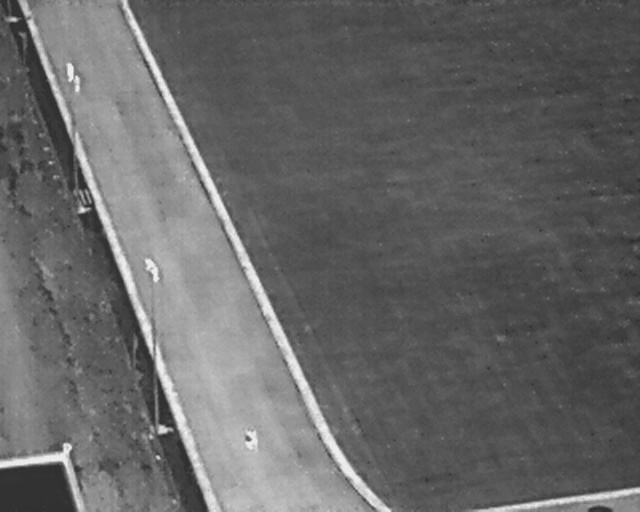Person: (138, 252, 165, 288), (243, 426, 260, 454), (65, 59, 76, 83), (73, 73, 82, 95)
